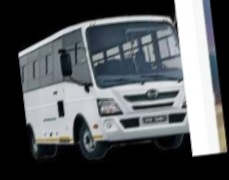bus: (16, 10, 191, 169)
